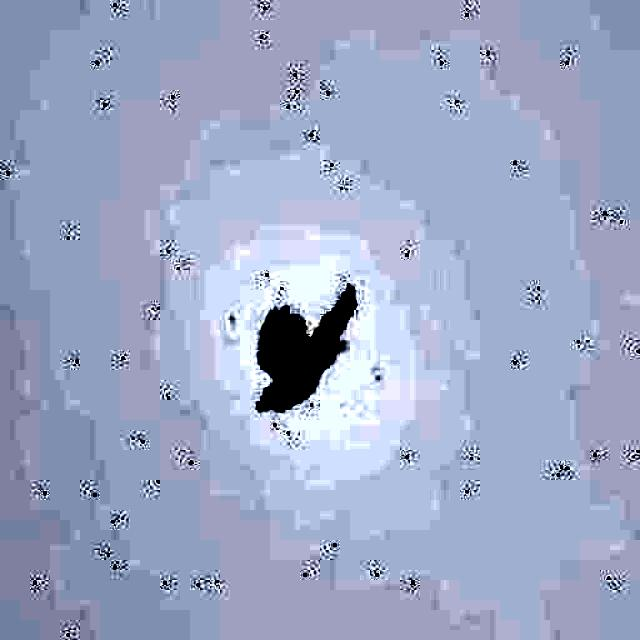airplane: (232, 284, 379, 416)
